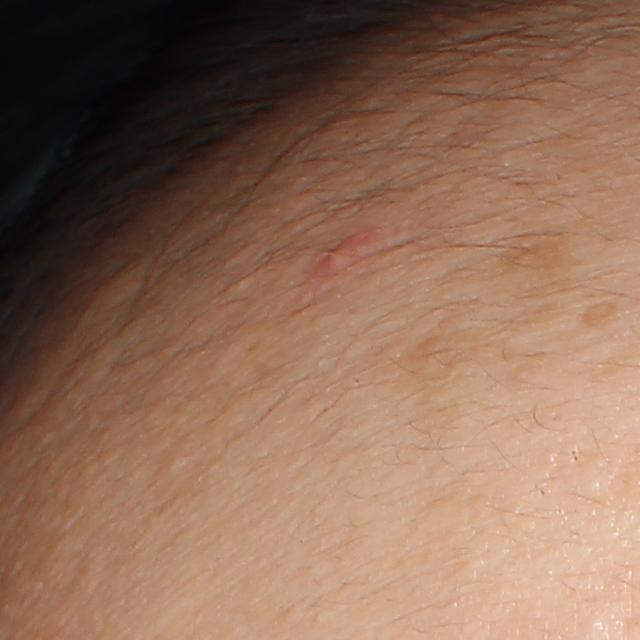comedo: (156, 450, 188, 474)
papule: (314, 235, 365, 274)
